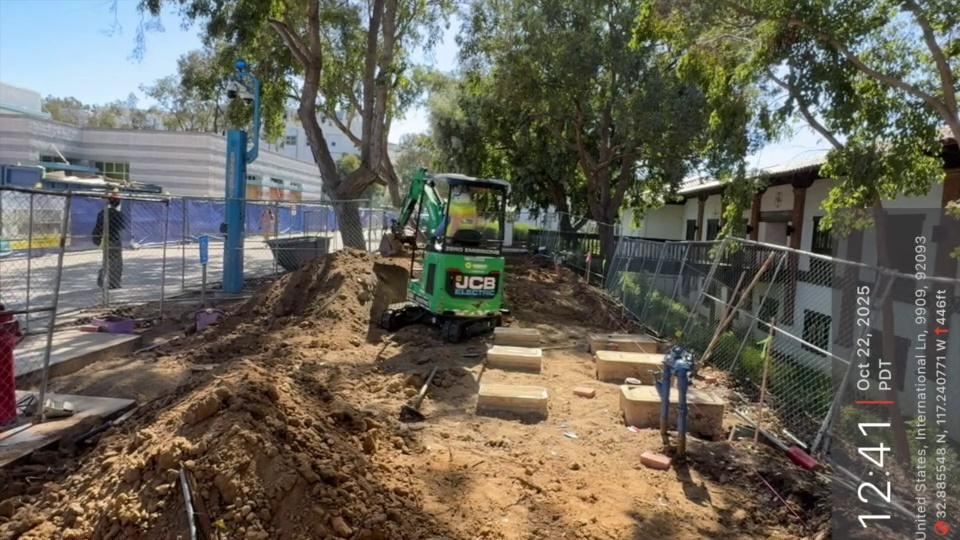Exacavator: (369, 166, 513, 343)
